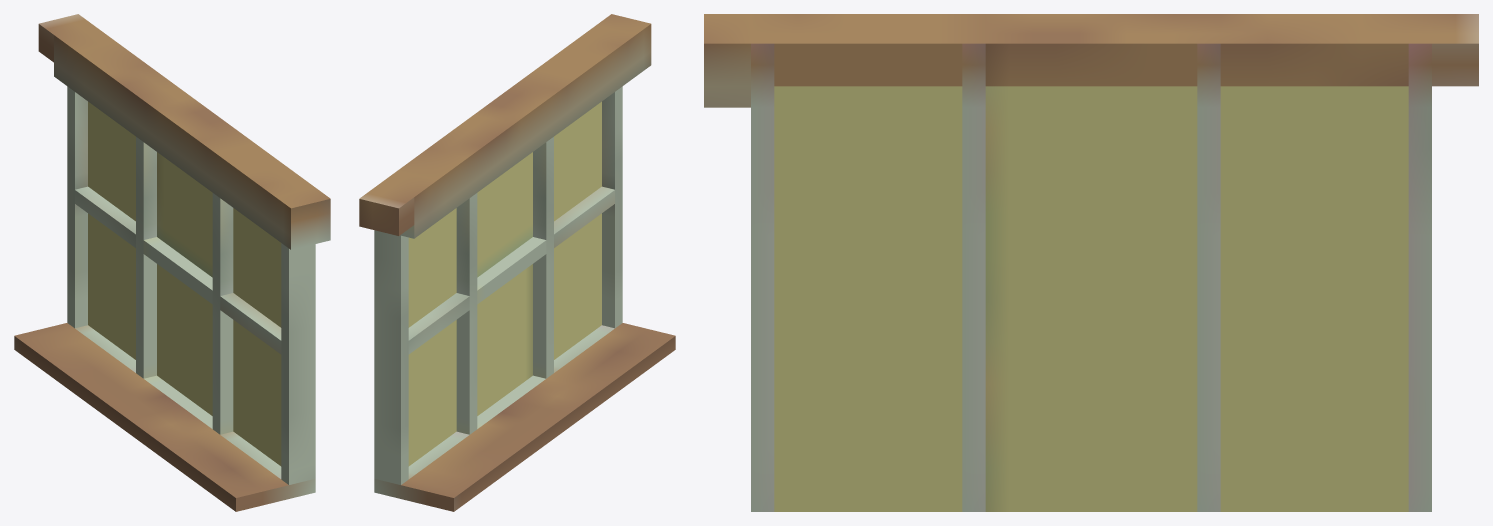
Rendered from WindowFrame4PaneWiderInside_00.obj.
The picture shows the model from 3 angles, left to right: view 1: azimuth 30°, elevation 25°; view 2: azimuth 150°, elevation 25°; view 3: azimuth 270°, elevation 25°; orthographic projection. The views are drawn at different scales.
Parts seen in each view (by area): view 1: WindowFrame4PaneWiderInside_00; view 2: WindowFrame4PaneWiderInside_00; view 3: WindowFrame4PaneWiderInside_00.
Part boxes in pixels (x1=…): WindowFrame4PaneWiderInside_00: x1=14, y1=14, x2=330, y2=511; WindowFrame4PaneWiderInside_00: x1=359, y1=14, x2=675, y2=511; WindowFrame4PaneWiderInside_00: x1=704, y1=14, x2=1478, y2=511.
Size of the model in its own units: 0.3 by 1.1 by 1.65.
